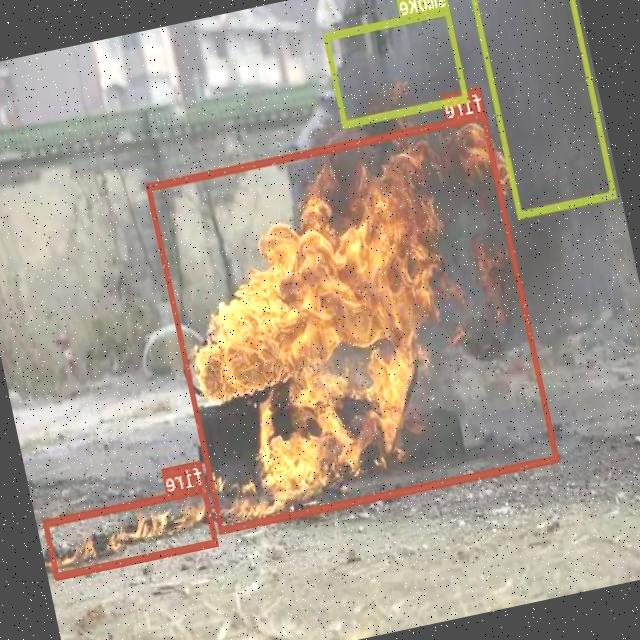fire: (146, 111, 559, 532), (43, 484, 218, 578)
smoke: (466, 0, 617, 217), (324, 5, 470, 126)
